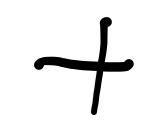plus: (35, 17, 134, 115)
